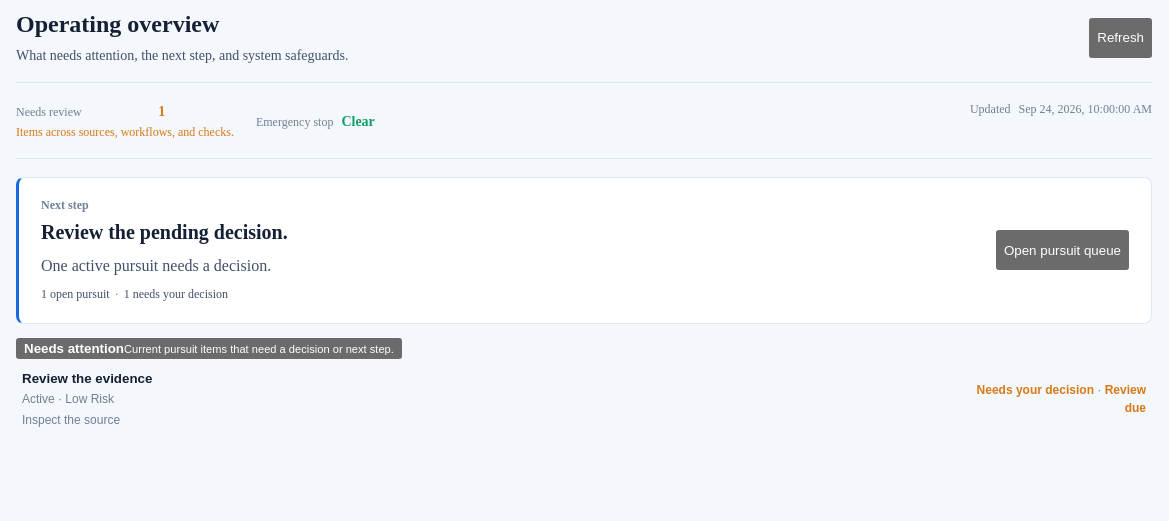
Scenario: HAIOSComponent progressive control room › keeps load failures visible and retries successfully without losing the last good overview
What coordinates should you click on to do the following:
click the button "Refresh"
I would click on:
 (1121, 38)
Its box is left=1089, top=18, right=1152, bottom=58.
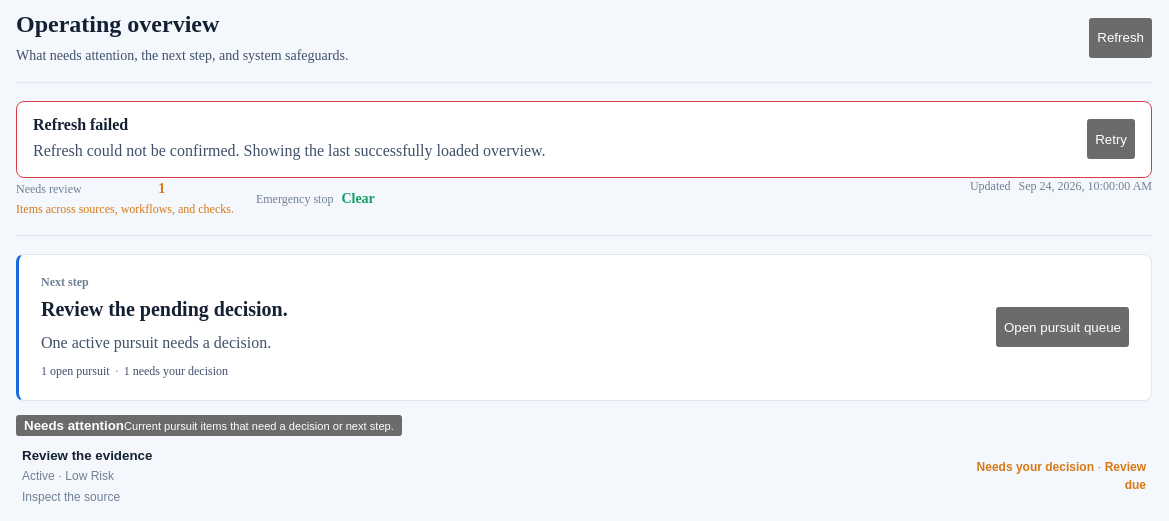
Check: the text "Refresh failed" is shown, box left=33, top=116, right=128, bottom=133
Check: the message shows "Showing the last successfully loaded overview", box left=33, top=142, right=546, bottom=159
What coordinates should you click on to do the following:
click the button "Retry"
I would click on:
 (1111, 139)
Its box is left=1087, top=119, right=1135, bottom=159.
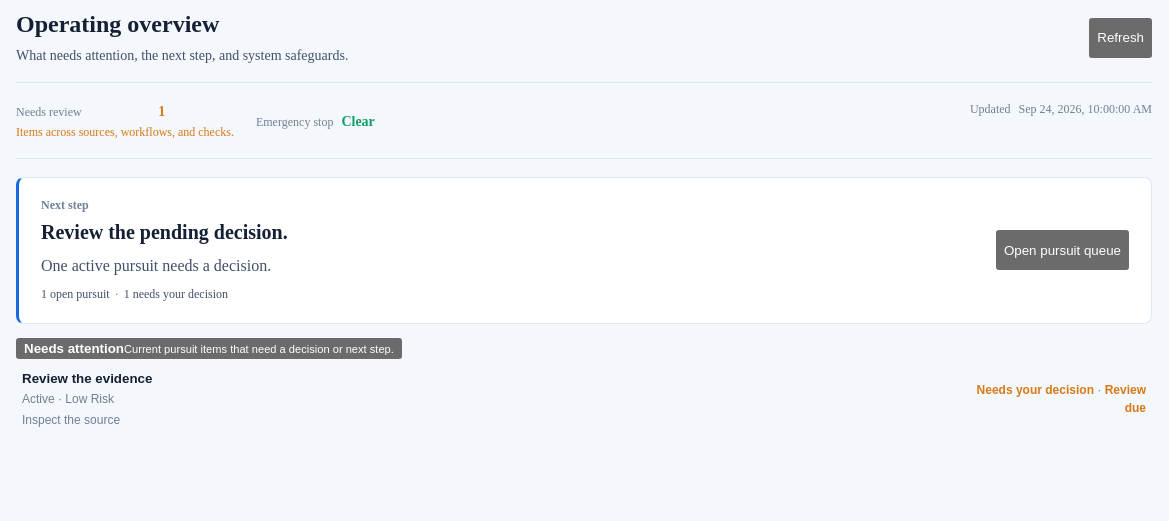
Check: the message is gone
